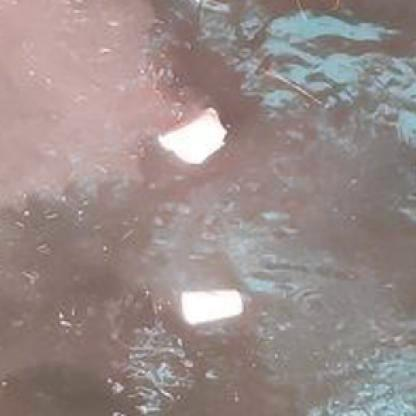Trash: (155, 108, 228, 167), (180, 287, 245, 328)
